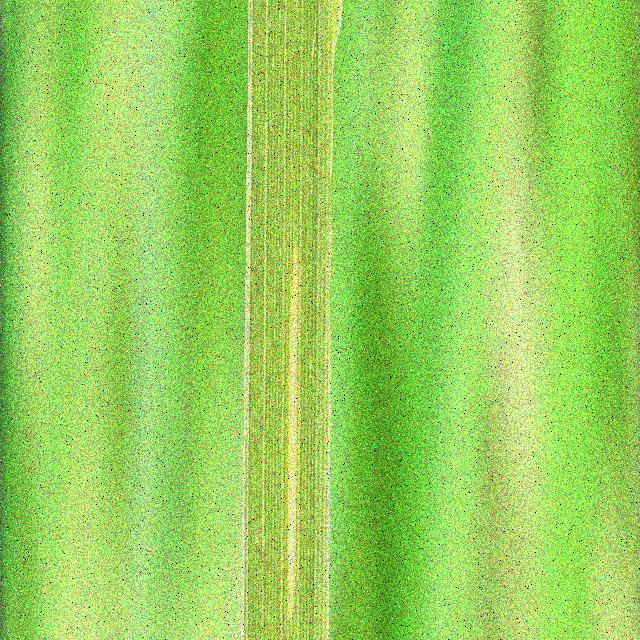BLS: (287, 248, 298, 622)
